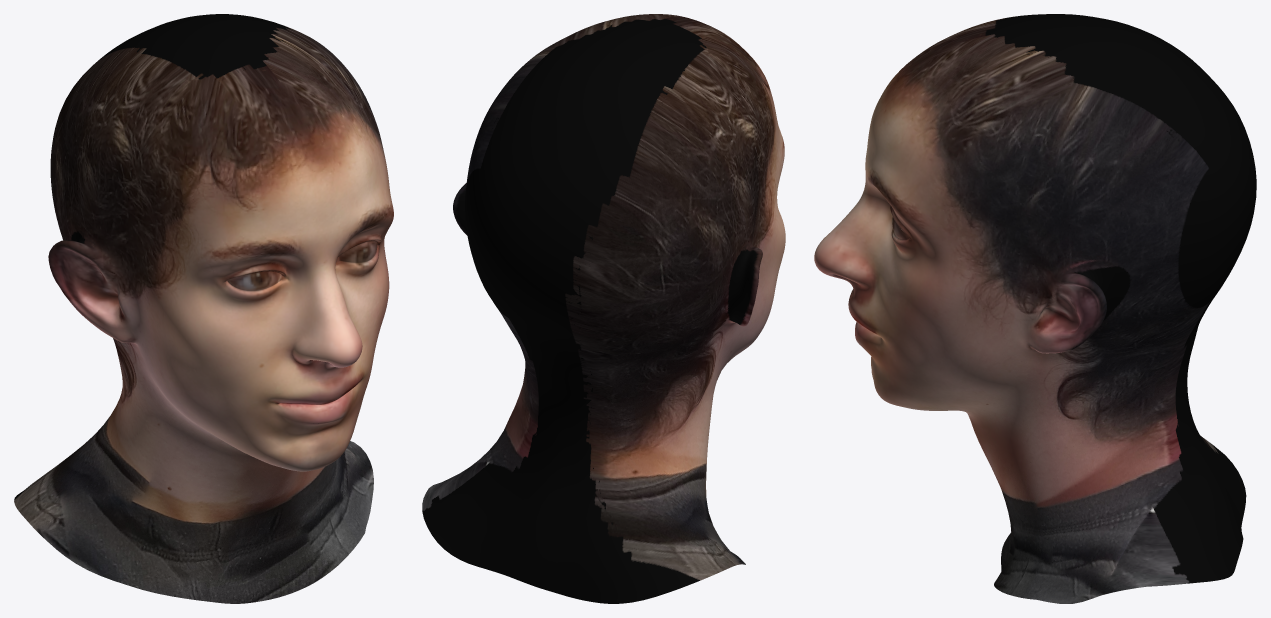
Rendered from face_decimated.glb.
The picture shows the model from 3 angles, left to right: view 1: azimuth 30°, elevation 25°; view 2: azimuth 150°, elevation 25°; view 3: azimuth 270°, elevation 25°; orthographic projection. The views are drawn at different scales.
Parts seen in each view (by area): view 1: FBHead.001; view 2: FBHead.001; view 3: FBHead.001.
Part boxes in pixels (x1,y1,x2,y2): FBHead.001: (14,14,393,603); FBHead.001: (422,14,785,603); FBHead.001: (814,14,1256,603).
Size of the model in its own units: 1.53 by 2.45 by 1.81.
1 material, 1 textured.
